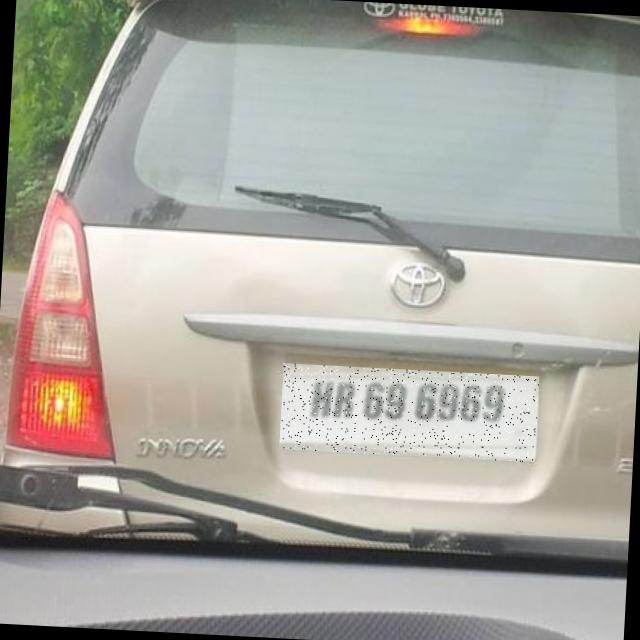Plate: (281, 365, 541, 464)
